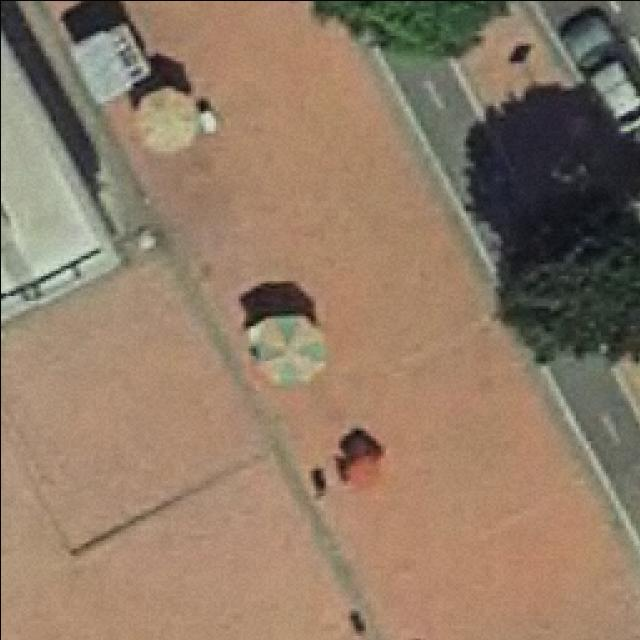vendedor_ambulante: (239, 308, 329, 390), (127, 79, 202, 155)
